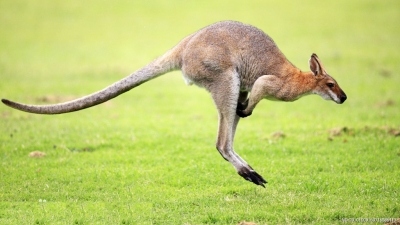kangaroo: (1, 18, 350, 189)
